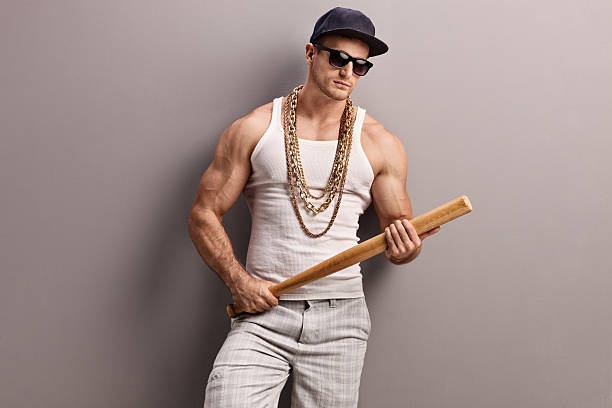bita: (229, 194, 471, 319)
